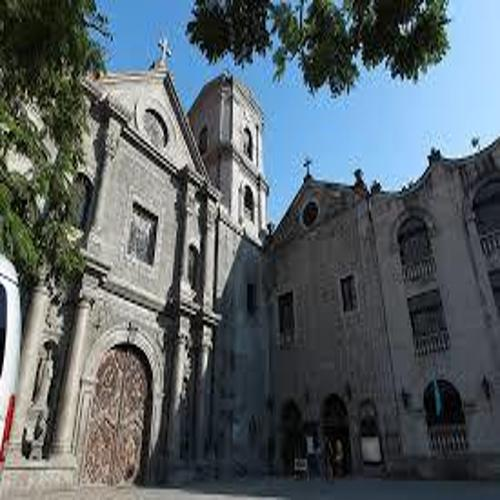San Agustin Church: (46, 30, 280, 486)
